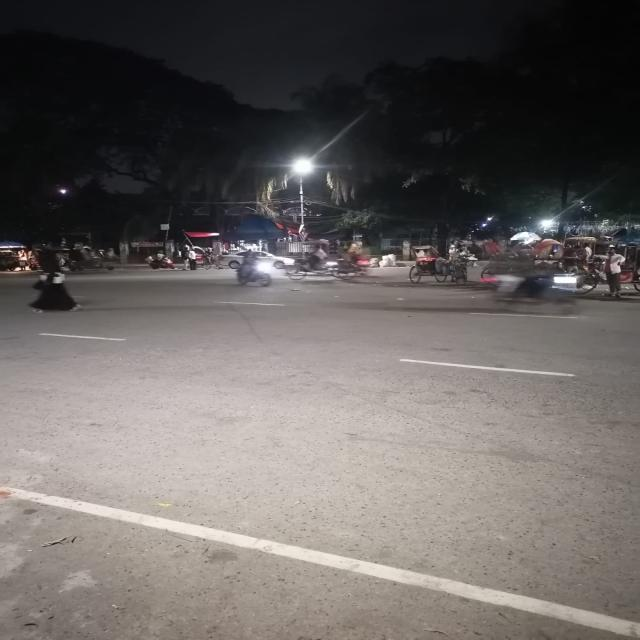person: (30, 248, 79, 312)
